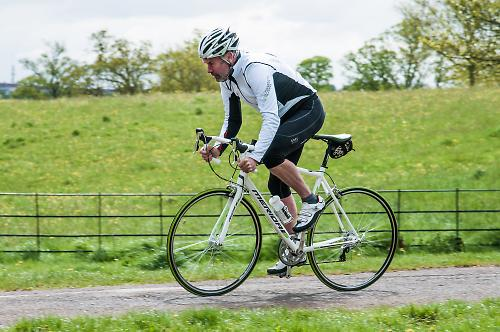helmet: (196, 23, 242, 55)
